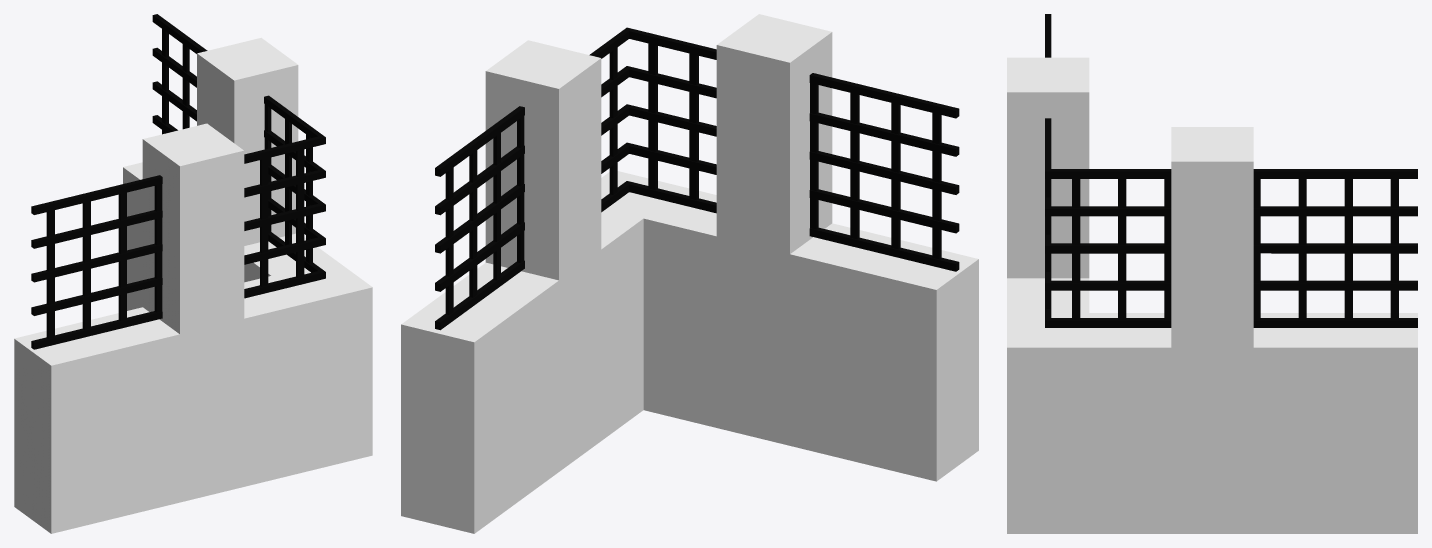
Rendered from Fence_08.fbx.
The picture shows the model from 3 angles, left to right: view 1: azimuth 30°, elevation 25°; view 2: azimuth 150°, elevation 25°; view 3: azimuth 270°, elevation 25°; orthographic projection. The views are drawn at different scales.
Visible parts, largest first — view 1: Fence_08; view 2: Fence_08; view 3: Fence_08.
Boxes of the visible parts, x1=… form: Fence_08: x1=14, y1=14, x2=372, y2=533; Fence_08: x1=401, y1=14, x2=978, y2=533; Fence_08: x1=1007, y1=14, x2=1417, y2=533.
Size of the model in its own units: 200 by 200 by 200.
